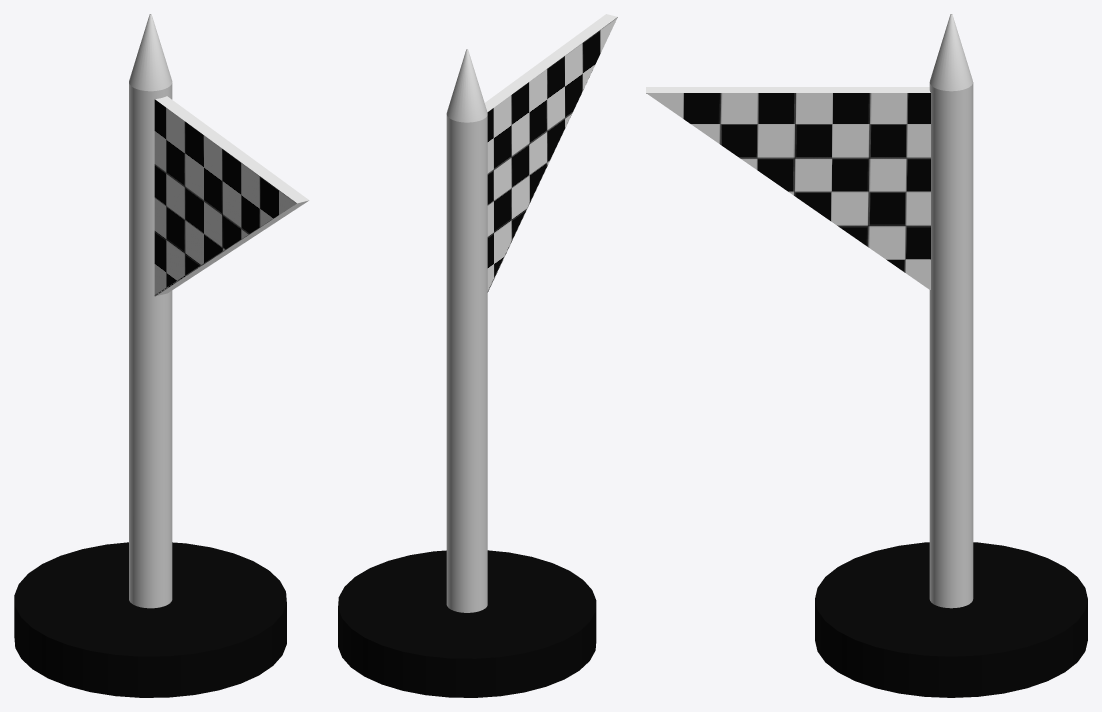
File: Flag.fbx
3 views of the same model, side by side, from view 1: azimuth 30°, elevation 25°; view 2: azimuth 150°, elevation 25°; view 3: azimuth 270°, elevation 25° (orthographic). The views are drawn at different scales.
Visible parts, largest first — view 1: Base, Pole, Flag; view 2: Base, Pole, Flag; view 3: Base, Flag, Pole.
Part boxes in pixels (<box>): Base: <box>14,542,286,697</box>; Pole: <box>129,14,172,608</box>; Flag: <box>154,96,309,296</box>; Base: <box>338,550,596,697</box>; Pole: <box>446,49,487,612</box>; Flag: <box>484,14,617,292</box>; Base: <box>815,542,1087,697</box>; Flag: <box>646,87,930,289</box>; Pole: <box>929,14,973,608</box>.
Size of the model in its own units: 120 by 303 by 194.
